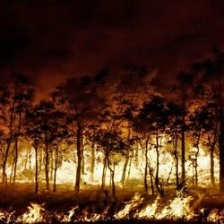fire: (1, 139, 219, 184), (1, 198, 221, 223)
